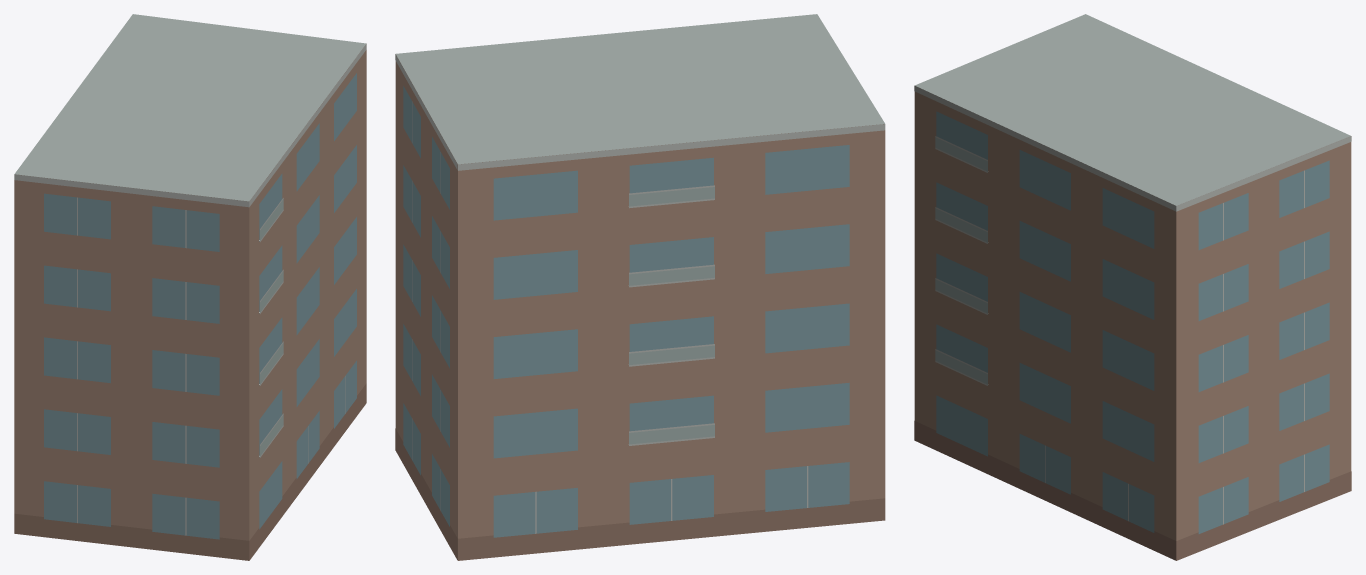
File: survey-upis-32833248.glb
The picture shows the model from 3 angles, left to right: view 1: azimuth 30°, elevation 25°; view 2: azimuth 150°, elevation 25°; view 3: azimuth 270°, elevation 25°; orthographic projection. The views are drawn at different scales.
Visible parts, largest first — view 1: survey-upis-32833248.tmp; view 2: survey-upis-32833248.tmp; view 3: survey-upis-32833248.tmp.
Boxes of the visible parts, x1,y1,x2,y2 form: survey-upis-32833248.tmp: (14,14,366,560); survey-upis-32833248.tmp: (395,14,885,560); survey-upis-32833248.tmp: (914,14,1351,560).
Bounding box in the file's own units: 17.4 × 15 × 16.74.
